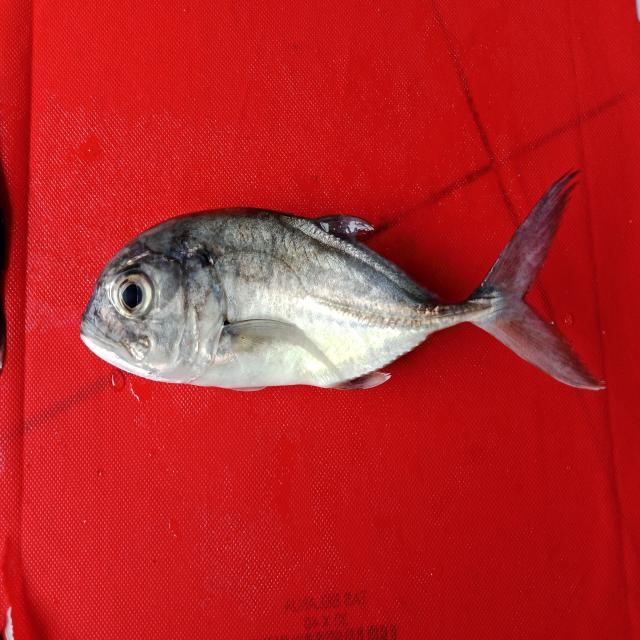ikan: (65, 167, 620, 411)
